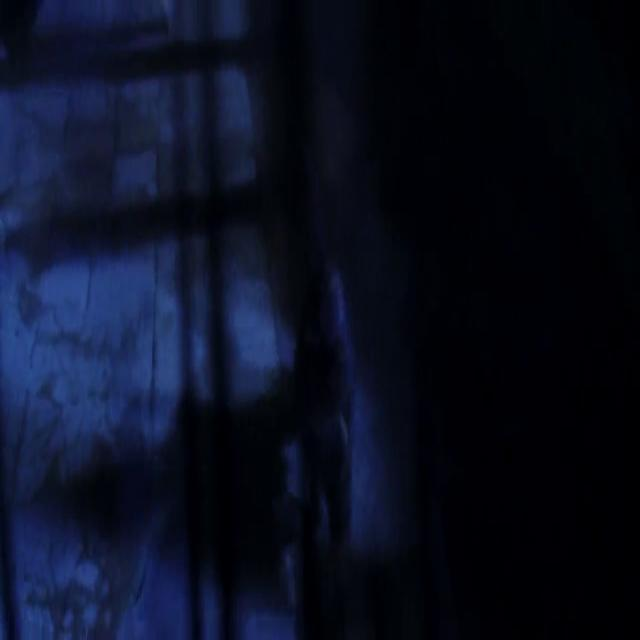Cat: (260, 122, 374, 556)
